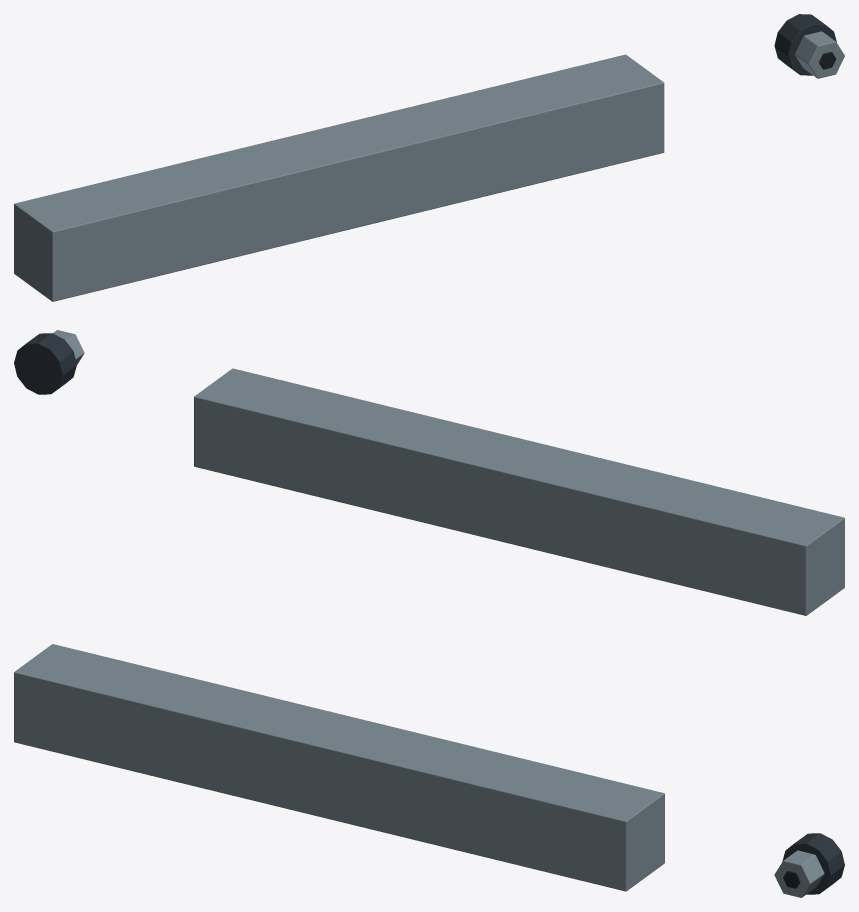
File: SM_Lab_Console__Cabinet_1_Drawer_0_Handle.fbx
3 renders of one model, top to bottom at view 1: azimuth 30°, elevation 25°; view 2: azimuth 150°, elevation 25°; view 3: azimuth 330°, elevation 25°, orthographic.
Visible parts, largest first — view 1: SM_Lab_Console__Cabinet_1_Drawer_0_Handle; view 2: SM_Lab_Console__Cabinet_1_Drawer_0_Handle; view 3: SM_Lab_Console__Cabinet_1_Drawer_0_Handle.
Part boxes in pixels (x1=…): SM_Lab_Console__Cabinet_1_Drawer_0_Handle: x1=14, y1=14, x2=844, y2=301; SM_Lab_Console__Cabinet_1_Drawer_0_Handle: x1=14, y1=330, x2=844, y2=615; SM_Lab_Console__Cabinet_1_Drawer_0_Handle: x1=14, y1=644, x2=844, y2=897.
Bounding box in the file's own units: 26.17 × 2.2 × 2.41.
